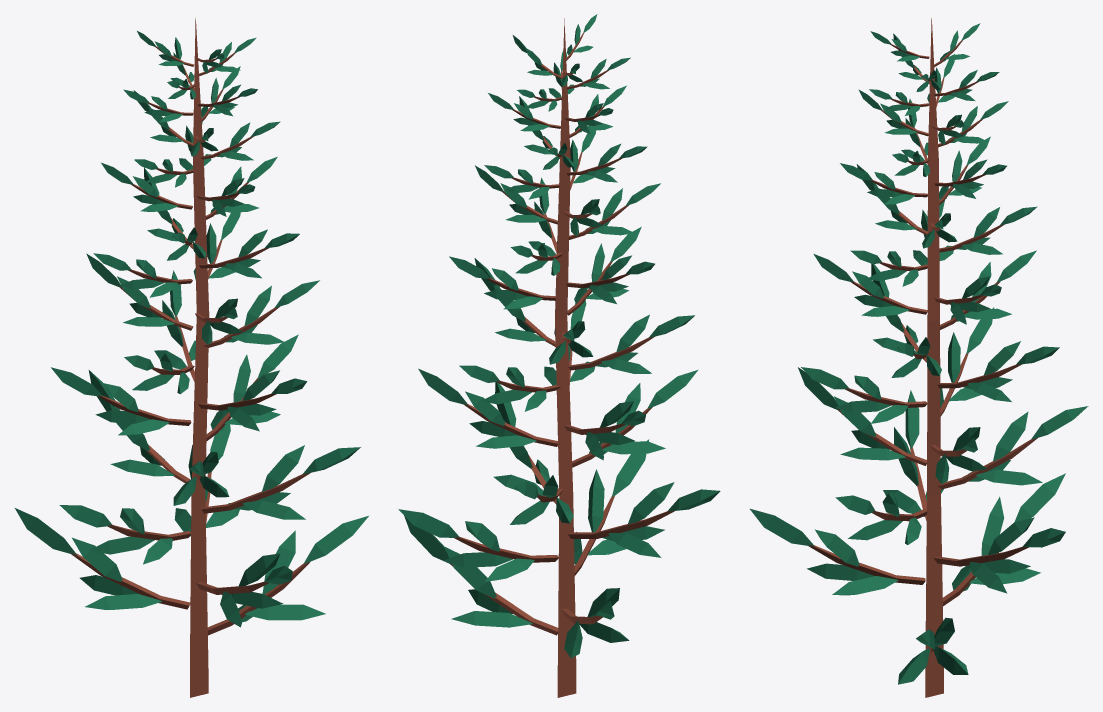
File: western-red-cedar.glb
3 views of the same model, side by side, from view 1: azimuth 30°, elevation 25°; view 2: azimuth 150°, elevation 25°; view 3: azimuth 270°, elevation 25° (orthographic).
Parts seen in each view (by area): view 1: Cylinder.001, Cylinder; view 2: Cylinder.001, Cylinder; view 3: Cylinder.001, Cylinder.
Boxes of the visible parts, bbox=[...] form: Cylinder.001: bbox=[15, 31, 368, 635]; Cylinder: bbox=[190, 18, 209, 697]; Cylinder.001: bbox=[398, 14, 720, 658]; Cylinder: bbox=[555, 18, 576, 697]; Cylinder.001: bbox=[750, 23, 1088, 684]; Cylinder: bbox=[925, 18, 943, 697].
Bounding box in the file's own units: 1.28 × 2.63 × 1.19.
